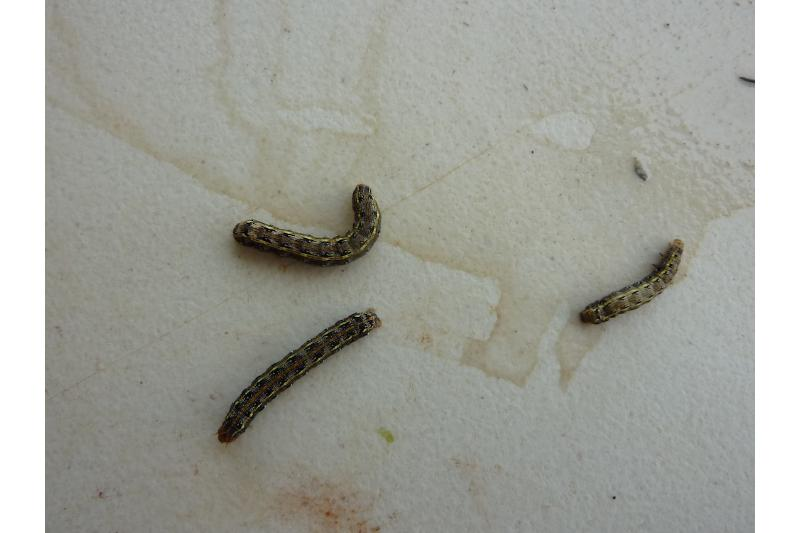fall-armyworm: (217, 309, 383, 447), (233, 185, 382, 268), (581, 240, 686, 326)
